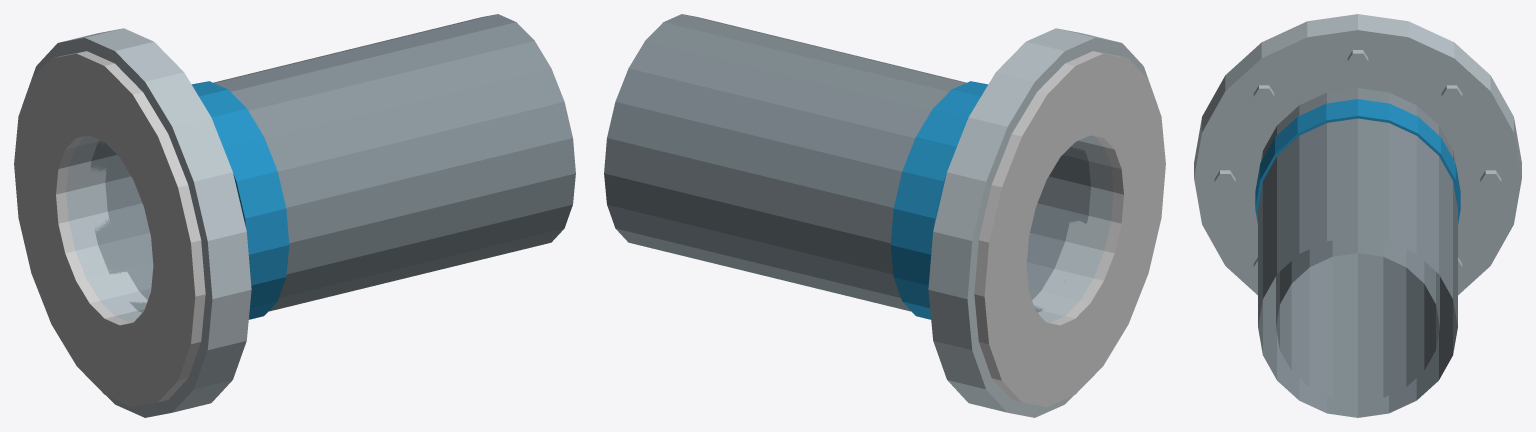
The model's file is cell_28.obj.
The picture shows the model from 3 angles, left to right: view 1: azimuth 30°, elevation 25°; view 2: azimuth 150°, elevation 25°; view 3: azimuth 270°, elevation 25°; orthographic projection. The views are drawn at different scales.
Bounding box in the file's own units: 1 × 0.82 × 0.82.
